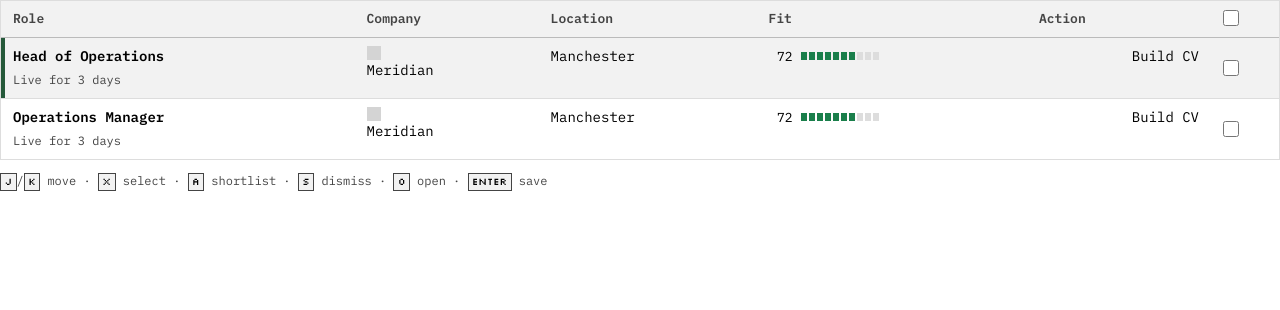
keeps a bulk selection intact when one token changed and sends every expected decision id
Click the checkbox named "Select Head of Operations at Meridian" at (1231, 68), box top-left (1223, 60), bottom-right (1239, 76)
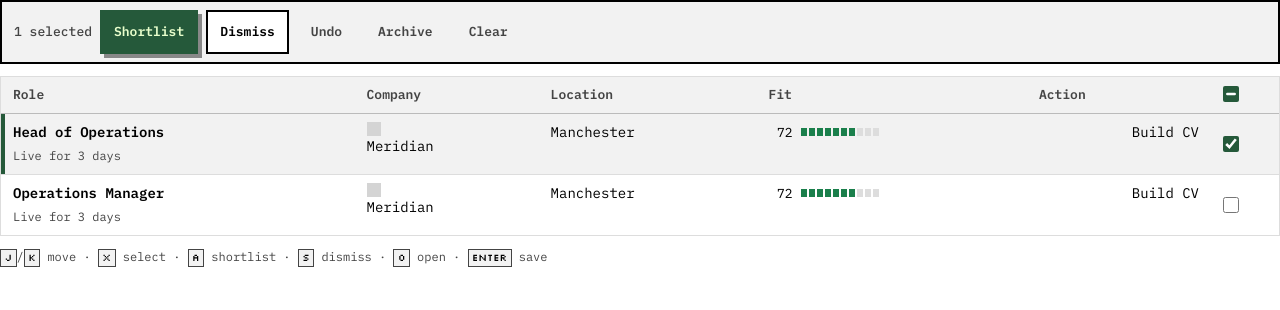
Click the checkbox named "Select Operations Manager at Meridian" at (1231, 204), box top-left (1223, 196), bottom-right (1239, 212)
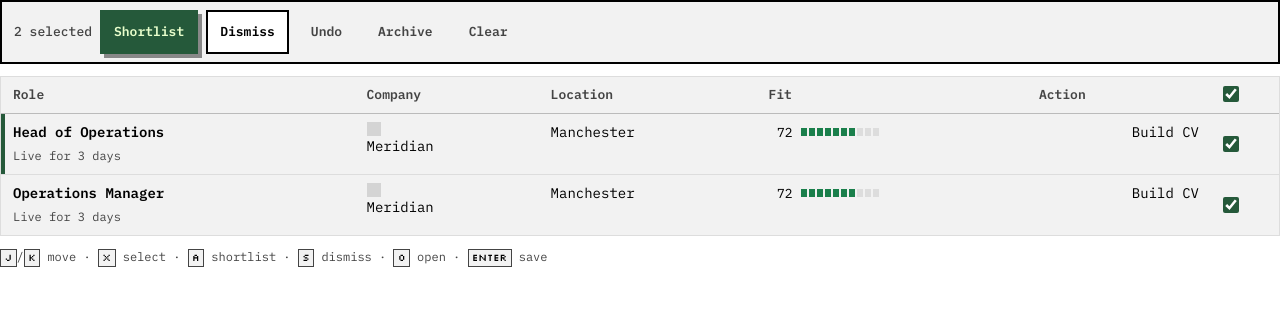
Click the button "Undo" at (326, 32), box top-left (297, 10), bottom-right (356, 54)
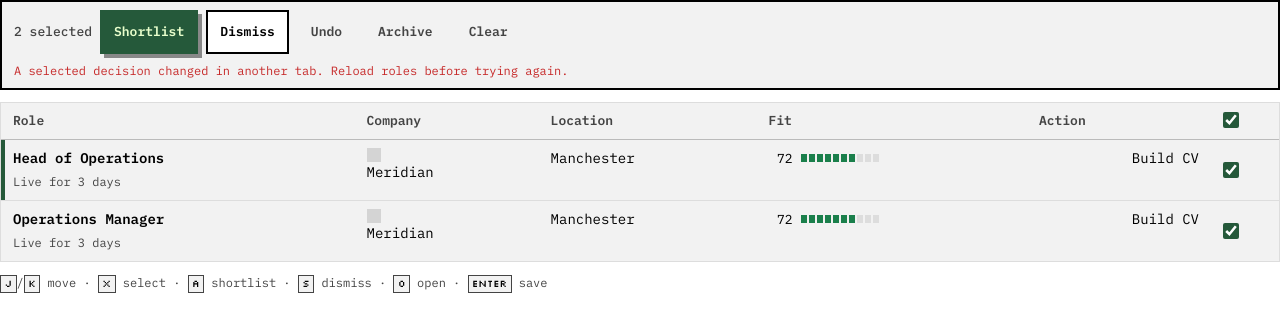
Expected: the text "2 selected" is shown, top-left (14, 22), bottom-right (92, 42)
Expected: the text "A selected decision changed in another tab" is shown, top-left (14, 63), bottom-right (568, 78)
